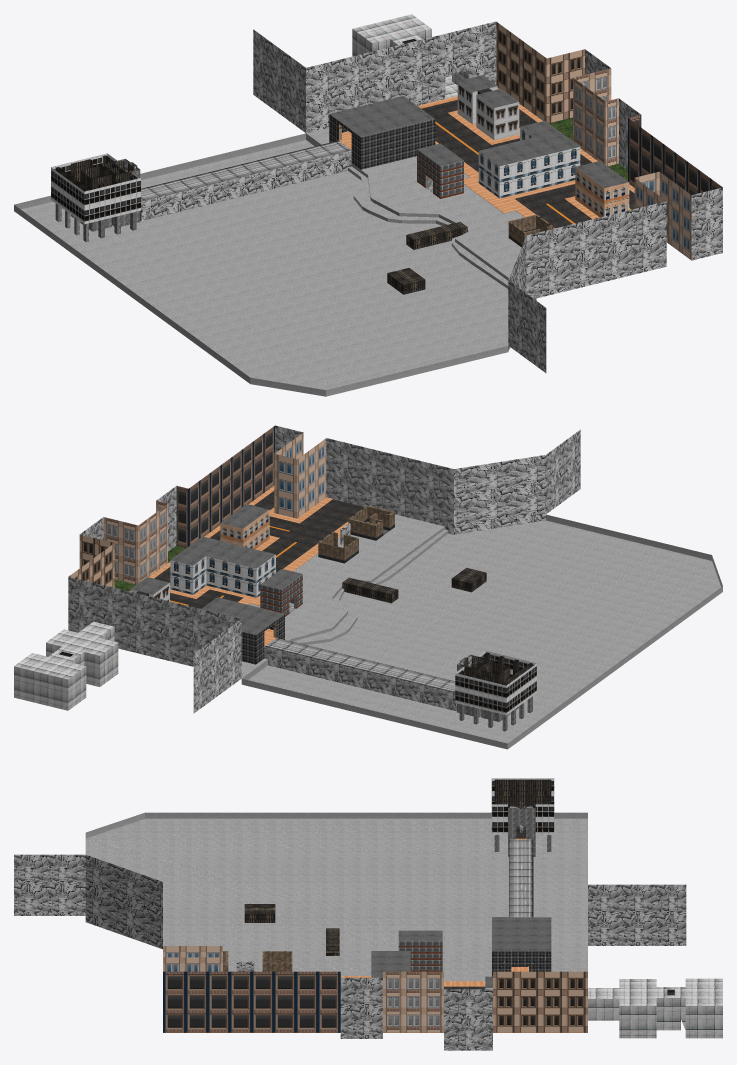
The model's file is beach.FBX.
3 views of the same model, one above another, from view 1: azimuth 30°, elevation 25°; view 2: azimuth 150°, elevation 25°; view 3: azimuth 270°, elevation 25° (orthographic). The views are drawn at different scales.
Parts seen in each view (by area): view 1: beach; view 2: beach; view 3: beach.
Boxes of the visible parts, x1,y1,x2,y2 form: beach: (14,14,722,396); beach: (14,425,722,749); beach: (14,778,722,1050).
Size of the model in its own units: 13304 by 16749 by 2000.
